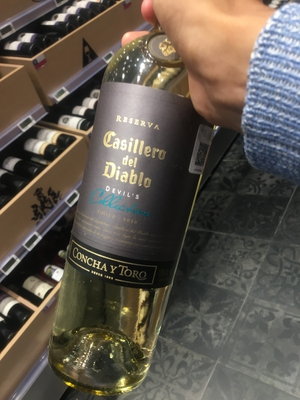casillero del diablo devils collection verde: (53, 24, 217, 393)
